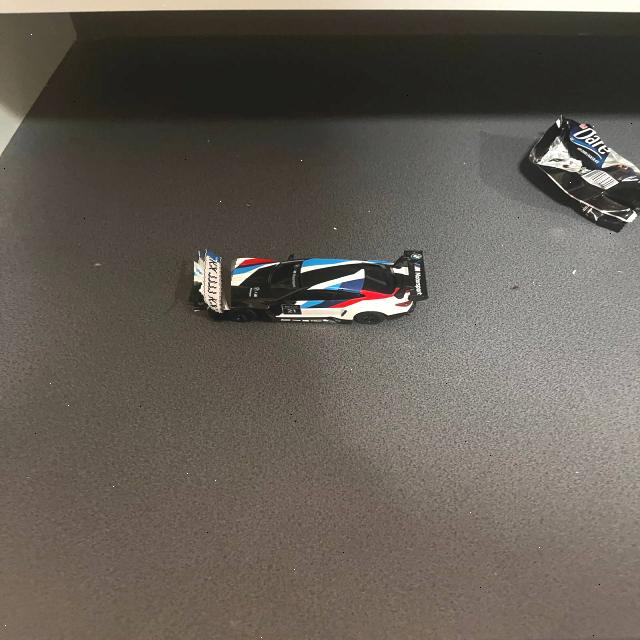KX 7777 KX: (201, 244, 228, 313)
